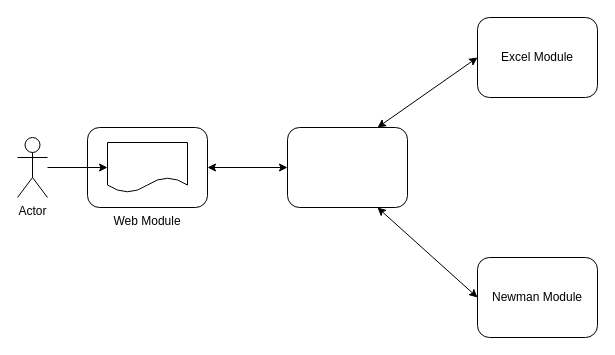
This 615x355 diagram has some shape labels left out. Here are the shapes that lost their labels. From the top down, the box of each, then its label:
(106, 142, 188, 192): WEB UI
(286, 126, 408, 208): Central Module
